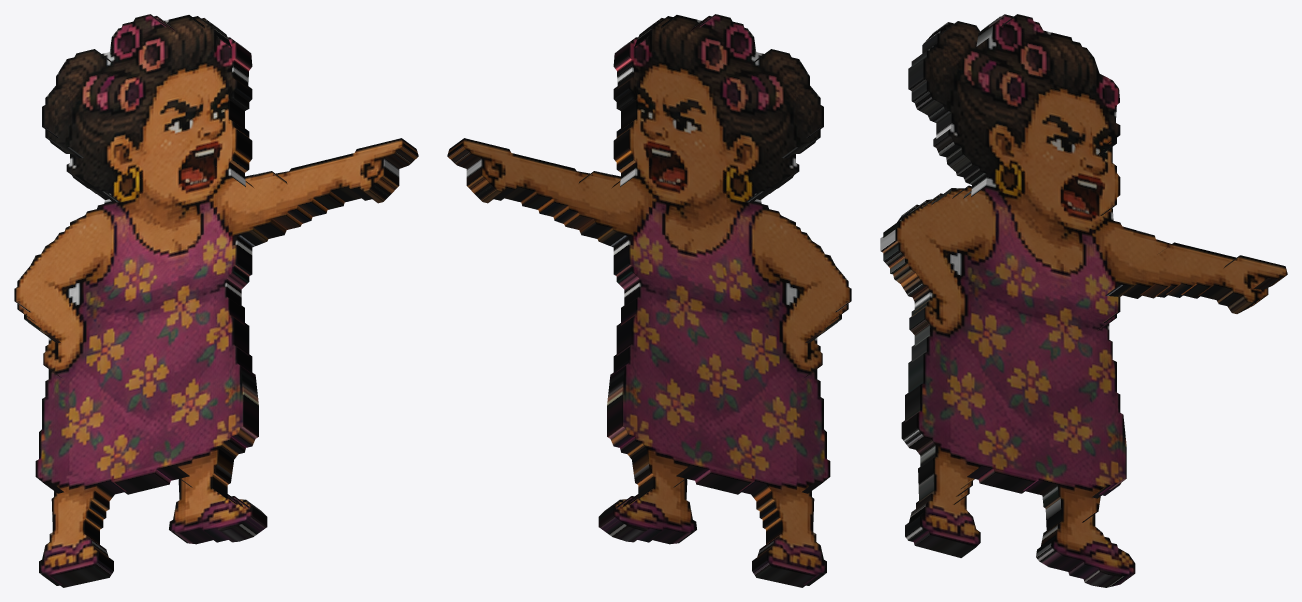
The model's file is woman_idle.glb.
The picture shows the model from 3 angles, left to right: view 1: azimuth 30°, elevation 25°; view 2: azimuth 150°, elevation 25°; view 3: azimuth 330°, elevation 25°; orthographic projection.
Parts seen in each view (by area): view 1: world; view 2: world; view 3: world.
Boxes of the visible parts, bbox=[...] form: world: bbox=[14, 14, 418, 587]; world: bbox=[447, 14, 851, 587]; world: bbox=[880, 14, 1287, 587].
Size of the model in its own units: 3.63 by 4.8 by 0.2405.
Materials: 1 (1 with a texture image).
